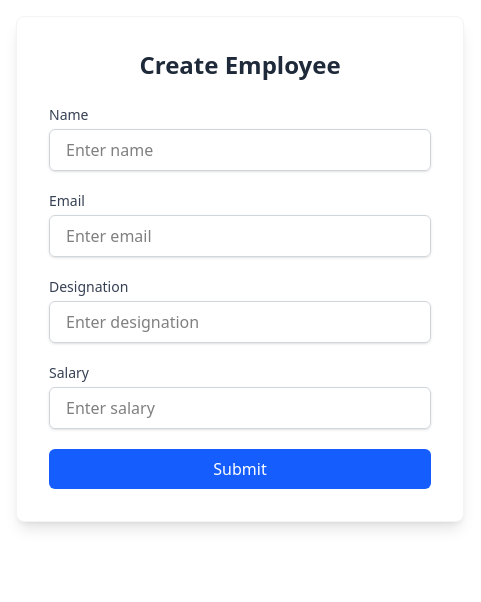
Test case: shows error when form is submitted with empty fields
Step 1. Click the button "Submit" → (240, 469), box [49,449,431,489]
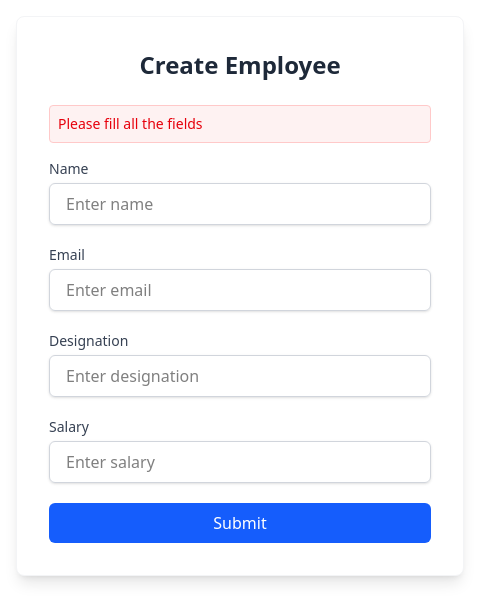
Now the text "Please fill all the fields" is shown, box [49,105,431,143]
